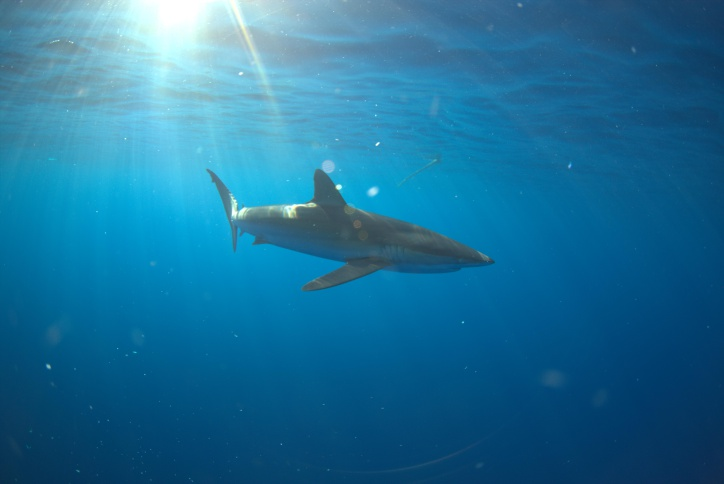Sedoso: (166, 163, 496, 296)
